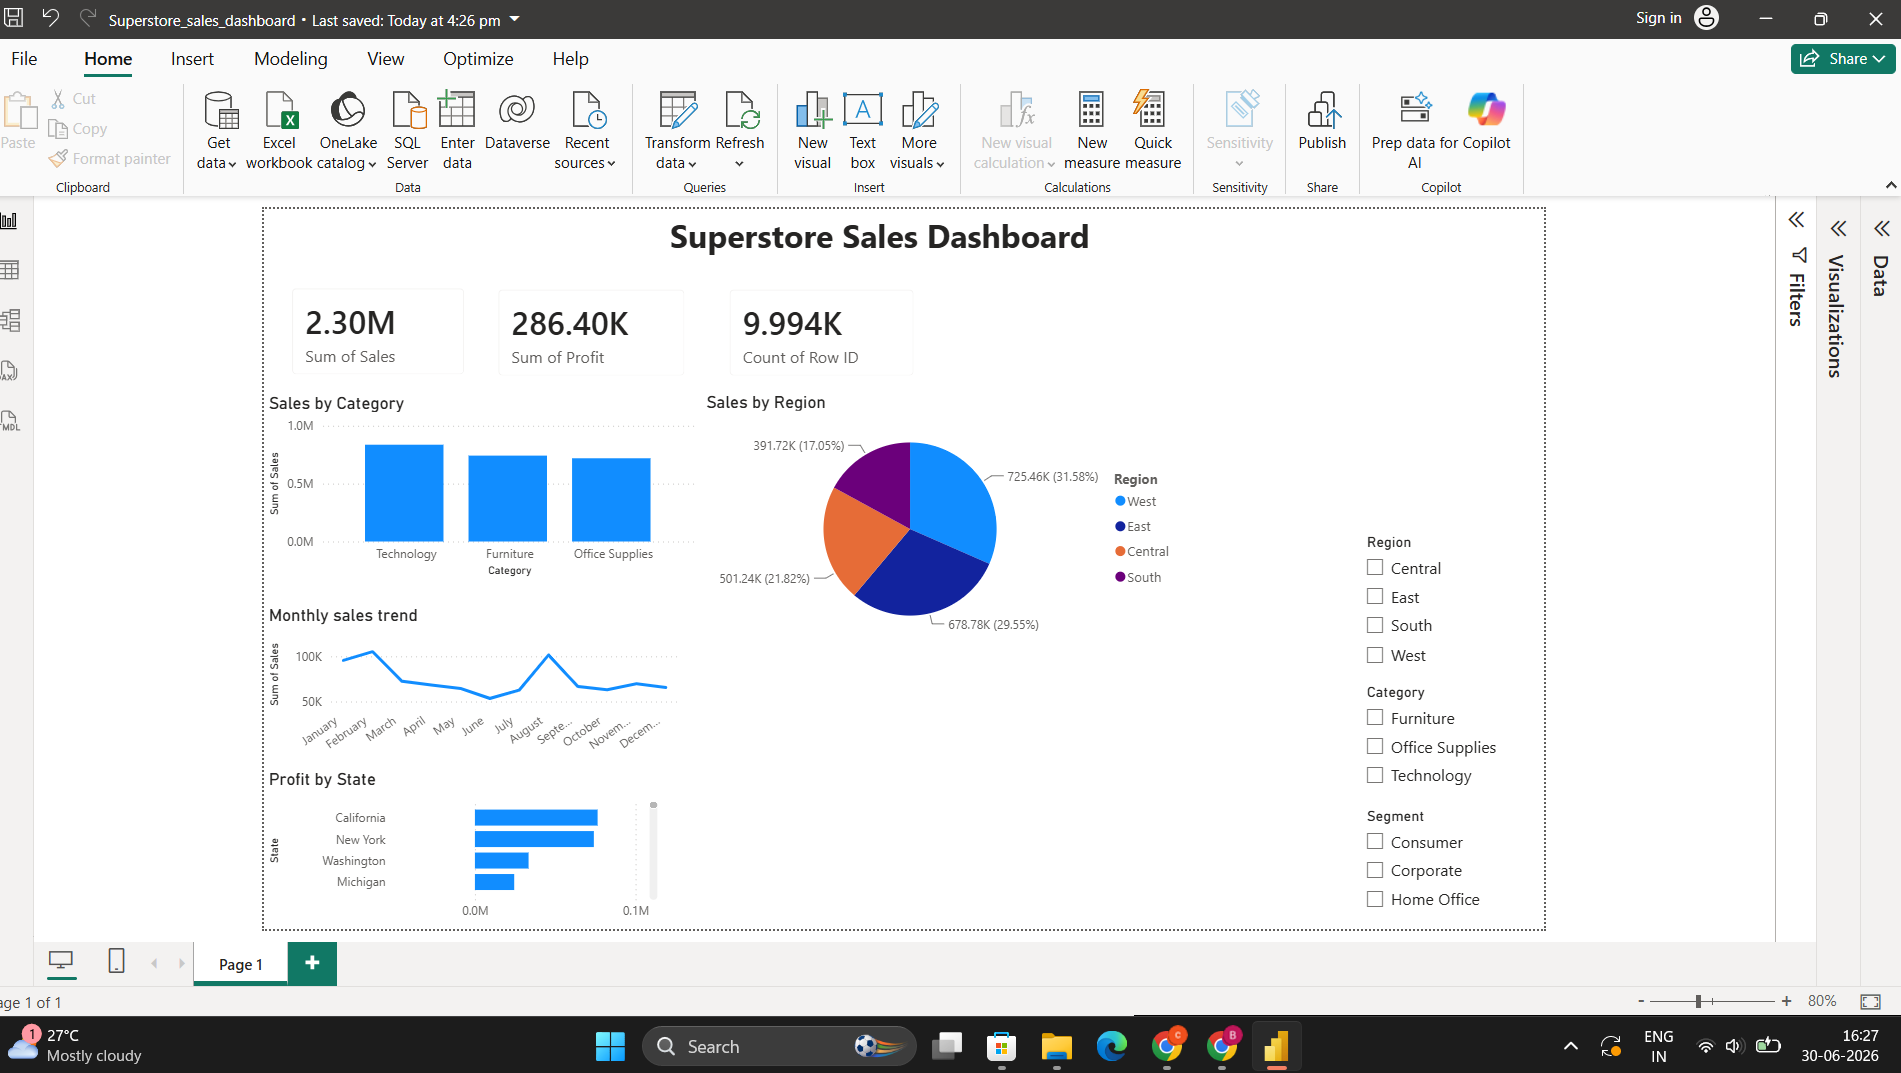

This screenshot's page, from the dashboard's own definition file:
{"tool":"powerbi","page":{"name":"Page 1","canvas":[1280,720],"ordinal":0},"visuals":[{"type":"pieChart","title":"Sales by Region","fields":{"Y":["Sum(Sample - Superstore.Sales)"],"Category":["Sample - Superstore.Region"]},"box":[437.5,182.5,482.5,256.2],"z":0},{"type":"lineChart","title":"Monthly sales trend","fields":{"Y":["Sum(Sample - Superstore.Sales)"],"Category":["Sample - Superstore.Order Date.Variation.Date Hierarchy.Month"]},"box":[0,396.2,418.8,157.5],"z":1000},{"type":"cardVisual","fields":{"Data":["Sum(Sample - Superstore.Sales)"]},"box":[11.2,62.5,206.2,120],"z":2000},{"type":"cardVisual","fields":{"Data":["Sum(Sample - Superstore.Profit)"]},"box":[217.5,63.8,220,120],"z":3000},{"type":"cardVisual","fields":{"Data":["CountNonNull(Sample - Superstore.Row ID)"]},"box":[448.8,63.8,218.8,120],"z":4000},{"type":"clusteredColumnChart","title":"Sales by Category","fields":{"Category":["Sample - Superstore.Category"],"Y":["Sum(Sample - Superstore.Sales)"]},"box":[0,183.8,437.5,188.8],"z":5000},{"type":"barChart","title":"Profit by State","fields":{"Y":["Sum(Sample - Superstore.Profit)"],"Category":["Sample - Superstore.State"]},"box":[0,560,398.8,160],"z":6000},{"type":"slicer","fields":{"Values":["Sample - Superstore.Region"]},"box":[1090,320,181.7,150],"z":7000},{"type":"slicer","fields":{"Values":["Sample - Superstore.Category"]},"box":[1090,470,185,123.3],"z":8000},{"type":"slicer","fields":{"Values":["Sample - Superstore.Segment"]},"box":[1090,593.3,190,126.7],"z":9000},{"type":"textbox","box":[276,0,688,60],"z":10000}]}

Visuals, with their boxes on the page's 1280x720 design canvas (x1, y1, x2, y2). These are canvas units, not pixel positions in the 1901x1073 screenshot, which may show the page scaled, cropped or inside an application window:
"Sales by Region" pieChart: <bbox>438, 182, 920, 439</bbox>
"Monthly sales trend" lineChart: <bbox>0, 396, 419, 554</bbox>
cardVisual - Sum(Sample - Superstore.Sales): <bbox>11, 62, 217, 182</bbox>
cardVisual - Sum(Sample - Superstore.Profit): <bbox>218, 64, 438, 184</bbox>
cardVisual - CountNonNull(Sample - Superstore.Row ID): <bbox>449, 64, 668, 184</bbox>
"Sales by Category" clusteredColumnChart: <bbox>0, 184, 438, 373</bbox>
"Profit by State" barChart: <bbox>0, 560, 399, 720</bbox>
slicer - Sample - Superstore.Region: <bbox>1090, 320, 1272, 470</bbox>
slicer - Sample - Superstore.Category: <bbox>1090, 470, 1275, 593</bbox>
slicer - Sample - Superstore.Segment: <bbox>1090, 593, 1280, 720</bbox>
textbox: <bbox>276, 0, 964, 60</bbox>
